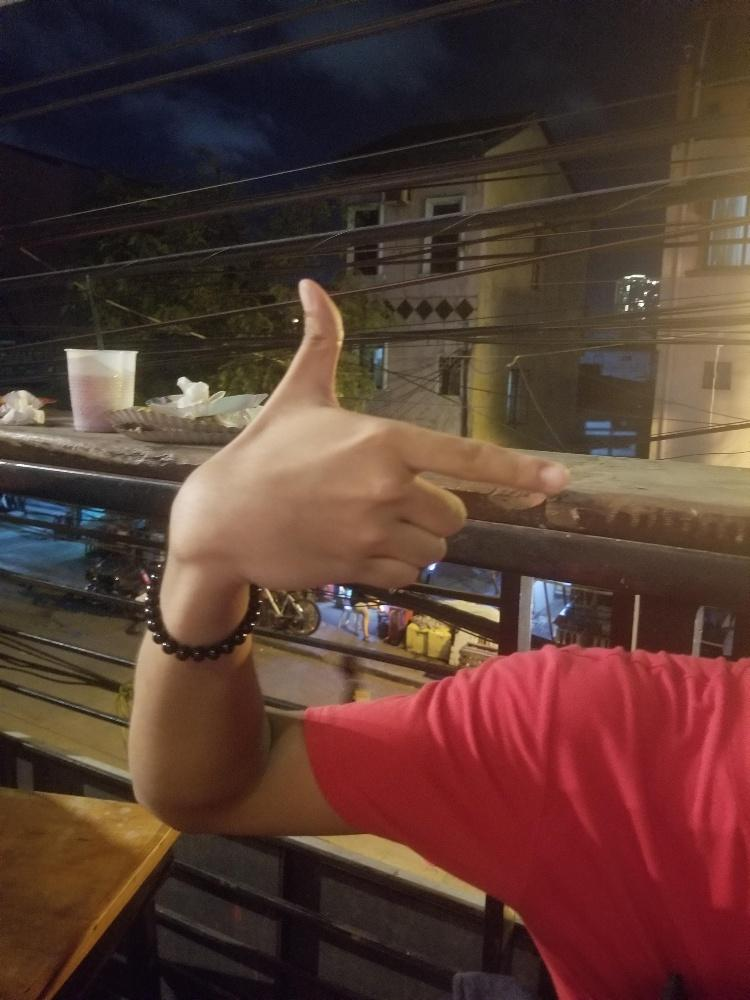g: (243, 275, 569, 591)
